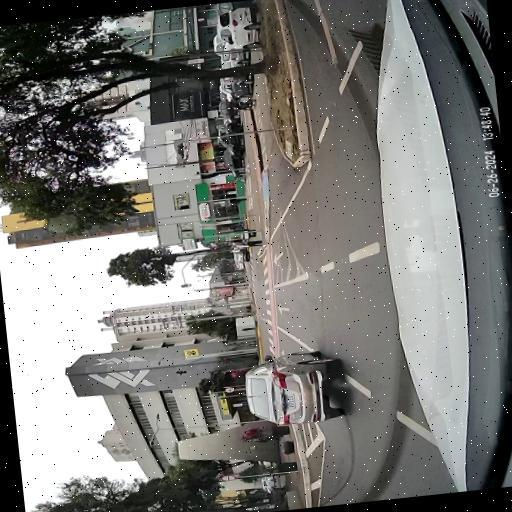R-24a: (221, 474, 235, 480)
